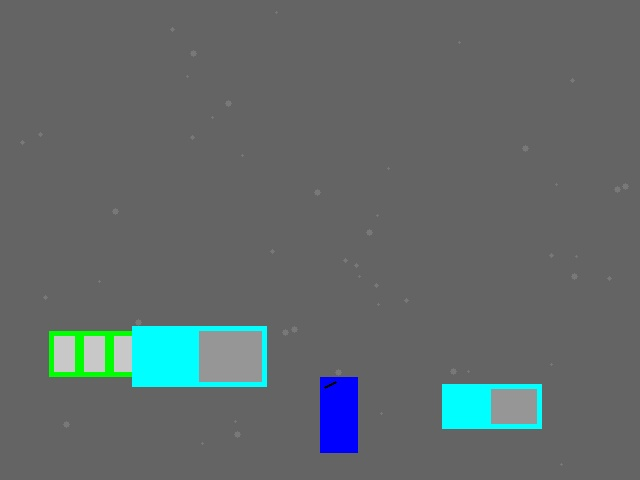bus: (49, 331, 158, 376)
motorcycle: (320, 377, 357, 452)
truck: (132, 326, 266, 386), (442, 384, 541, 428)
